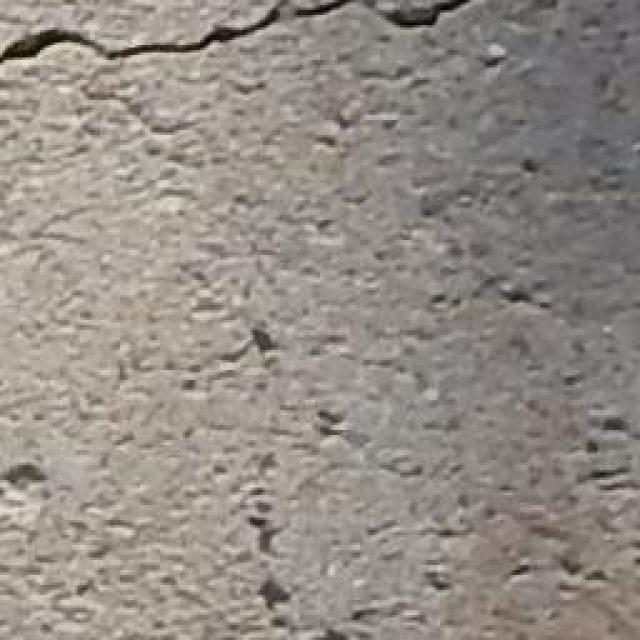concrete-crack: (0, 5, 479, 70)
